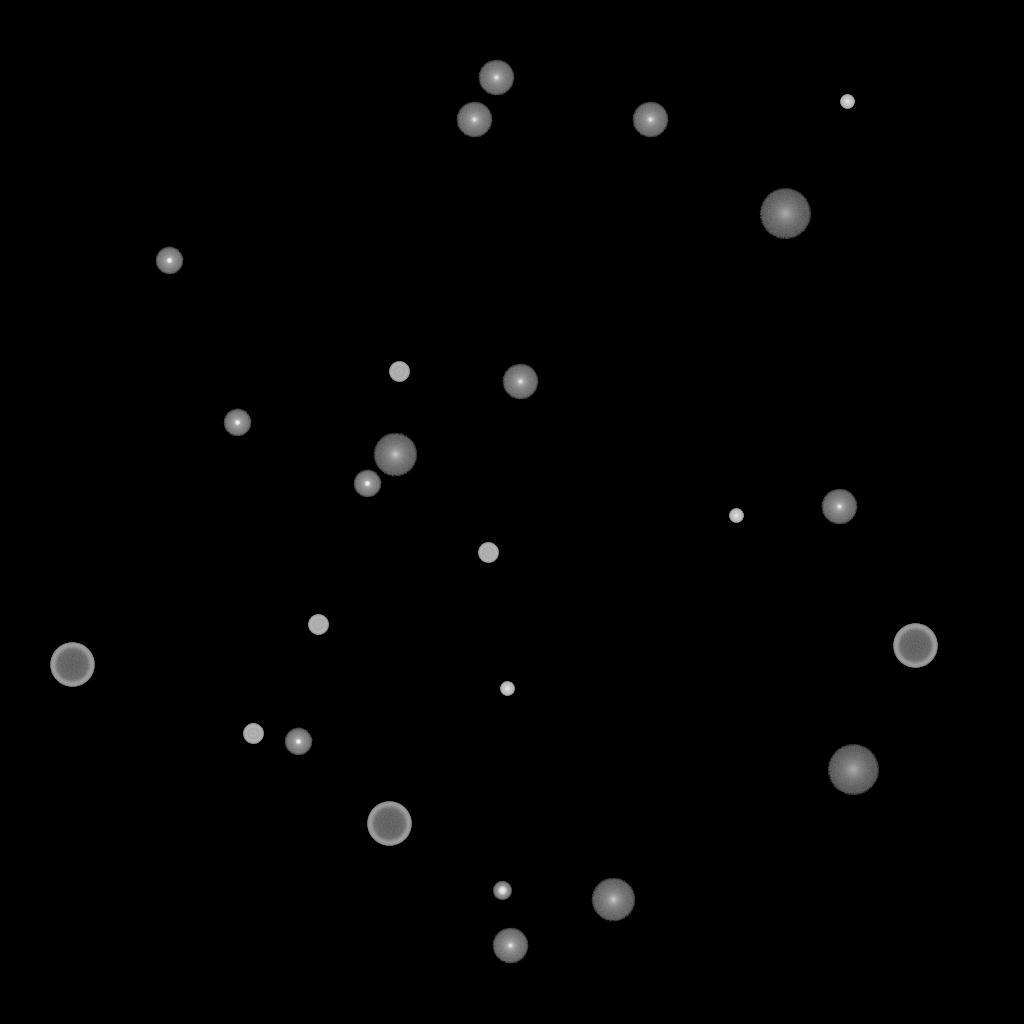depth:-10: (155, 247, 183, 275), (353, 470, 381, 498), (223, 409, 251, 437), (284, 728, 312, 756)
depth:-20: (493, 882, 511, 900)
depth:-30: (500, 682, 514, 696), (729, 509, 743, 523), (840, 95, 854, 109)
depth:-40: (308, 615, 328, 635), (389, 362, 409, 382), (243, 724, 263, 744), (478, 543, 498, 563)
depth:-70: (50, 643, 94, 687), (367, 802, 411, 846), (893, 624, 937, 668)
depth:0: (478, 60, 514, 96), (632, 102, 668, 138), (492, 928, 528, 964), (456, 102, 492, 138), (821, 489, 857, 525), (502, 364, 538, 400)
depth:10: (373, 433, 417, 477), (591, 878, 635, 922)
depth:20: (759, 189, 811, 239), (827, 745, 879, 795)
